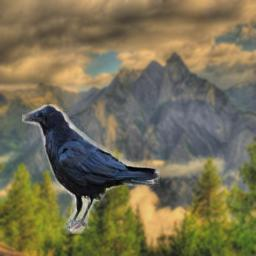Crow: (22, 104, 160, 234)
